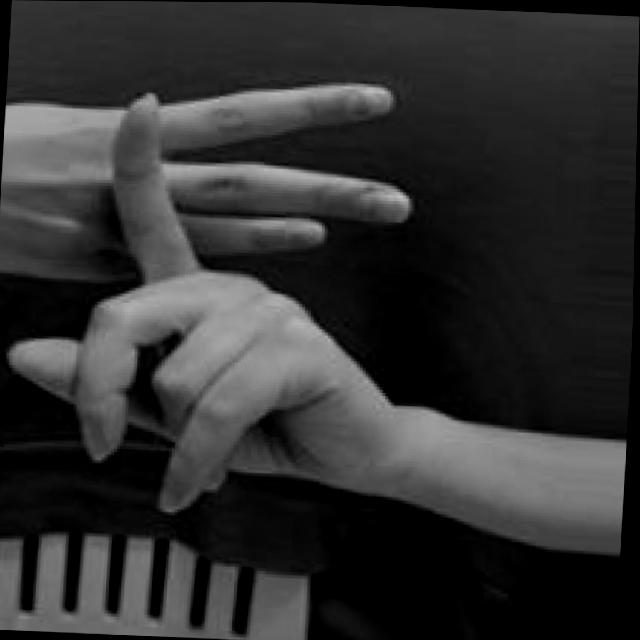E: (0, 53, 428, 527)
